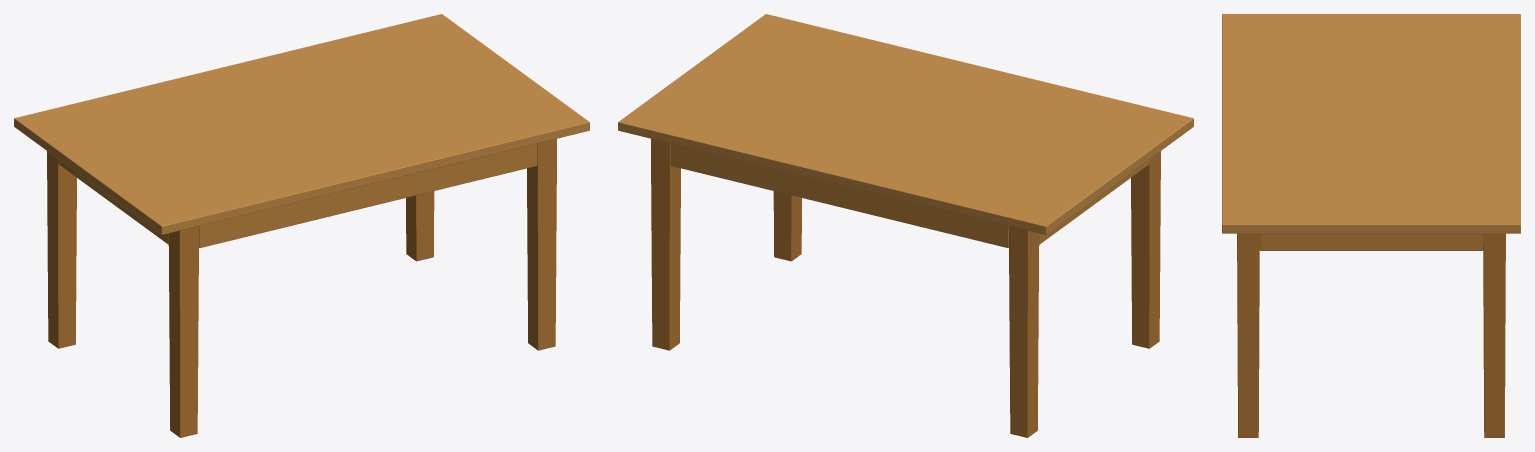
File: Pine_dining_table.obj
3 renders of one model, left to right at view 1: azimuth 30°, elevation 25°; view 2: azimuth 150°, elevation 25°; view 3: azimuth 270°, elevation 25°, orthographic.
Visible parts, largest first — view 1: top, apron.long_1, leg_1, leg_2, leg_3, leg_4, apron.short_1; view 2: top, apron.long_2, leg_3, leg_4, leg_1, leg_2, apron.short_1; view 3: top, leg_2, leg_4, apron.short_2.
Boxes of the visible parts, x1,y1,x2,y2 form: top: (14,14,589,234); apron.long_1: (199,143,537,247); leg_1: (168,226,199,437); leg_2: (527,138,556,350); leg_3: (47,151,76,348); leg_4: (406,191,434,261); apron.short_1: (58,159,168,244); top: (618,14,1193,234); apron.long_2: (670,143,1008,247); leg_3: (1008,226,1039,437); leg_4: (651,138,680,350); leg_1: (1131,151,1160,348); leg_2: (773,191,801,261); apron.short_1: (1039,159,1149,244); top: (1222,14,1520,233); leg_2: (1237,233,1259,437); leg_4: (1483,233,1505,437); apron.short_2: (1259,233,1483,250).
Bounding box in the file's own units: 1.52 × 0.76 × 0.91.
